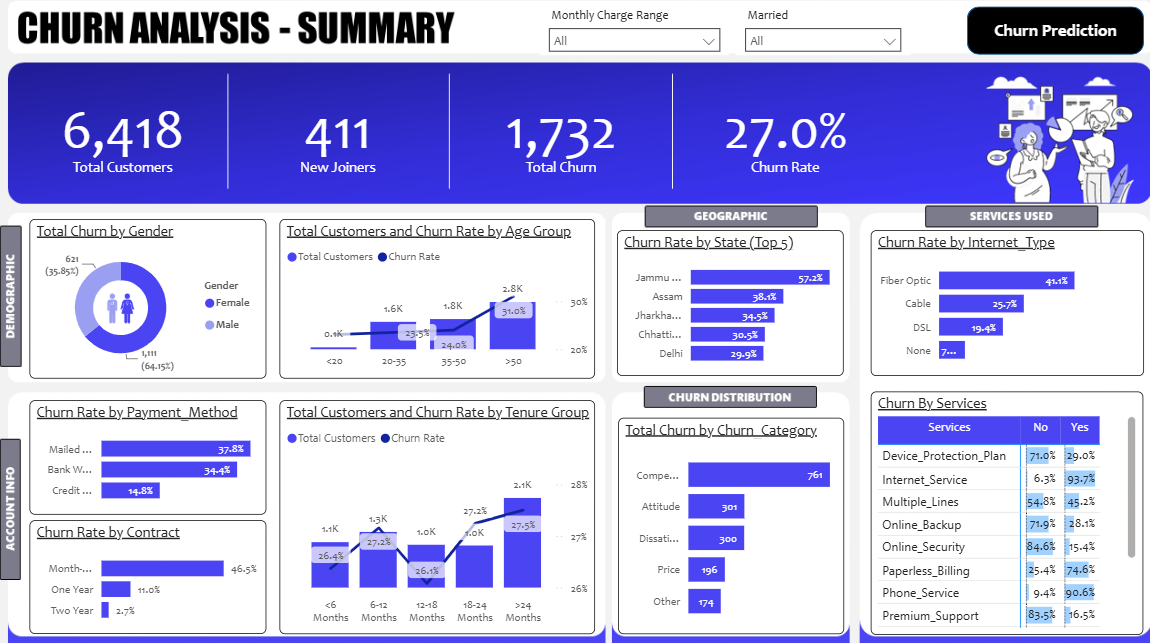

This screenshot's page, from the dashboard's own definition file:
{"tool":"powerbi","page":{"name":"Summary","canvas":[1280,720],"ordinal":0},"visuals":[{"type":"image","box":[110,316.6,52.1,55.2],"z":0},{"type":"card","fields":{"Values":["D_Table.Total Customers"]},"box":[22.7,89.1,230,126.4],"z":1000},{"type":"card","fields":{"Values":["D_Table.New Joiners"]},"box":[252.7,89.1,243.6,126.4],"z":2000},{"type":"card","fields":{"Values":["D_Table.Total Churn"]},"box":[496.4,89.1,245.5,126.4],"z":3000},{"type":"card","fields":{"Values":["D_Table.Churn Rate"]},"box":[741.8,89.1,246.4,126.4],"z":4000},{"type":"donutChart","fields":{"Category":["prod_Churn.Gender"],"Y":["D_Table.Total Churn"]},"box":[36.2,246.9,260,175.4],"z":5000},{"type":"lineStackedColumnComboChart","fields":{"Category":["mapping_AgeGrp.Age Group"],"Y":["Table_Measure.Total Customers"],"Y2":["Table_Measure.Churn Rate"]},"box":[310,247.1,346.4,175],"z":6000},{"type":"clusteredBarChart","fields":{"Category":["prod_Churn.Payment_Method"],"Y":["Table_Measure.Churn Rate"]},"box":[35.8,445.8,260,125.8],"z":7000},{"type":"clusteredBarChart","fields":{"Y":["Table_Measure.Churn Rate"],"Category":["prod_Churn.Contract"]},"box":[35.8,577.5,260,125],"z":8000},{"type":"lineStackedColumnComboChart","fields":{"Category":["mapping_TenureGrp.Tenure Group"],"Y":["Table_Measure.Total Customers"],"Y2":["Table_Measure.Churn Rate"]},"box":[310,445.8,346.7,256.7],"z":9000},{"type":"clusteredBarChart","title":"Churn Rate by State (Top 5)","fields":{"Category":["prod_Churn.State"],"Y":["Table_Measure.Churn Rate"]},"box":[680,260,248.9,160],"z":10000},{"type":"clusteredBarChart","fields":{"Category":["prod_Churn.Churn_Category"],"Y":["Table_Measure.Total Churn"]},"box":[681.7,465,248.3,237.5],"z":11000},{"type":"pivotTable","title":"Churn By Services","fields":{"Rows":["Prod_Services.Services"],"Columns":["Prod_Services.Status"],"Values":["Sum(Prod_Services.Churn Status)"]},"box":[959,436,299,267],"z":12000},{"type":"slicer","fields":{"Values":["Prod_Services.Monthly Charge Status"]},"box":[595,10,208.3,57.5],"z":13000},{"type":"slicer","fields":{"Values":["Prod_Services.Married"]},"box":[810.8,10,191.7,57.5],"z":14000},{"type":"clusteredBarChart","fields":{"Y":["Table_Measure.Churn Rate"],"Category":["prod_Churn.Internet_Type"]},"box":[958.6,260,300,160],"z":15000},{"type":"shape","box":[1064.3,14.3,194.3,52.9],"z":16000}]}

Visuals, with their boxes in screenshot pixels (x1, y1, x2, y2), scaled from the page's 1280x720 canvas onto the 1150x643 screenshot:
image: left=99, top=283, right=146, bottom=332
card - D_Table.Total Customers: left=20, top=80, right=227, bottom=192
card - D_Table.New Joiners: left=227, top=80, right=446, bottom=192
card - D_Table.Total Churn: left=446, top=80, right=667, bottom=192
card - D_Table.Churn Rate: left=666, top=80, right=888, bottom=192
donutChart - prod_Churn.Gender x D_Table.Total Churn: left=33, top=220, right=266, bottom=377
lineStackedColumnComboChart - mapping_AgeGrp.Age Group x Table_Measure.Total Customers: left=279, top=221, right=590, bottom=377
clusteredBarChart - prod_Churn.Payment_Method x Table_Measure.Churn Rate: left=32, top=398, right=266, bottom=510
clusteredBarChart - Table_Measure.Churn Rate x prod_Churn.Contract: left=32, top=516, right=266, bottom=627
lineStackedColumnComboChart - mapping_TenureGrp.Tenure Group x Table_Measure.Total Customers: left=279, top=398, right=590, bottom=627
"Churn Rate by State (Top 5)" clusteredBarChart: left=611, top=232, right=835, bottom=375
clusteredBarChart - prod_Churn.Churn_Category x Table_Measure.Total Churn: left=612, top=415, right=836, bottom=627
"Churn By Services" pivotTable: left=862, top=389, right=1130, bottom=628
slicer - Prod_Services.Monthly Charge Status: left=535, top=9, right=722, bottom=60
slicer - Prod_Services.Married: left=728, top=9, right=901, bottom=60
clusteredBarChart - Table_Measure.Churn Rate x prod_Churn.Internet_Type: left=861, top=232, right=1131, bottom=375
shape: left=956, top=13, right=1131, bottom=60
